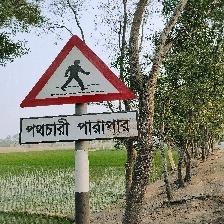Pedestrian-crossing: (18, 34, 139, 146)
